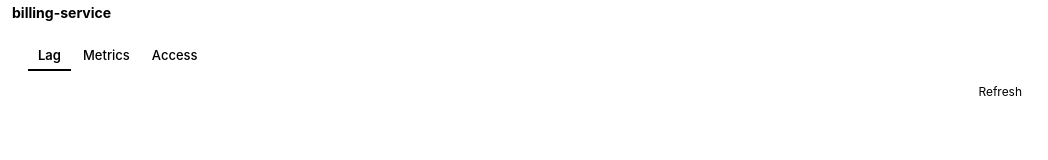
it: ConsumerGroupDetailPanel › shows an error banner when the fetch fails
Click the button "Refresh" at (1000, 92), box [964,78,1036,105]
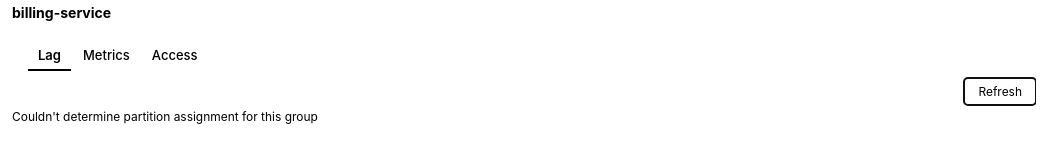
Now the message reads "Couldn't determine partition assignment for this group", box [12,109,318,124]
